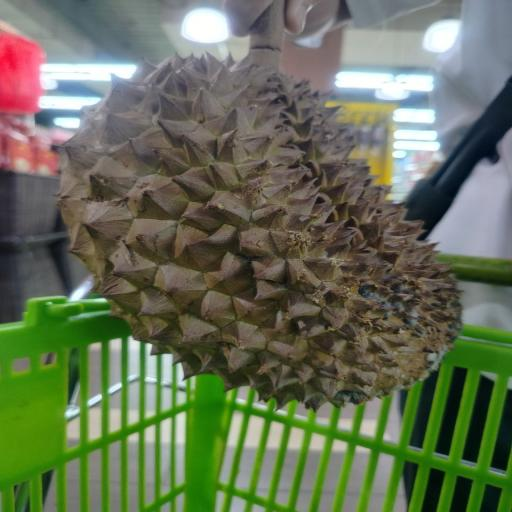mold: (24, 0, 500, 425)
